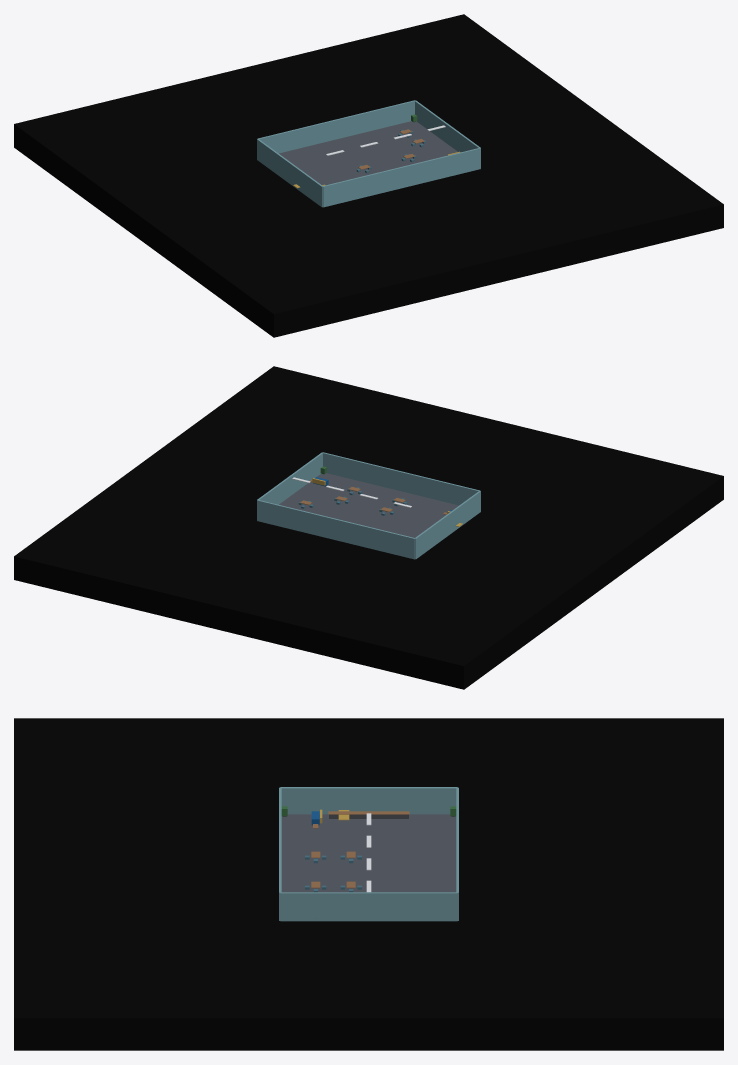
File: Social_Level.fbx
3 views of the same model, one above another, from view 1: azimuth 30°, elevation 25°; view 2: azimuth 150°, elevation 25°; view 3: azimuth 270°, elevation 25° (orthographic). The views are drawn at different scales.
Visible parts, largest first — view 1: Floor, Social_Floor, Social_Wall_N, Social_Wall_S, Social_Wall_W, Social_Wall_E; view 2: Floor, Social_Floor, Social_Wall_S, Social_Wall_N, Social_Wall_W, Social_Wall_E; view 3: Floor, Social_Floor, Social_Wall_E, Social_Wall_W.
Part boxes in pixels (x1,y1,x2,y2): Floor: [14, 14, 723, 337]; Social_Floor: [279, 121, 457, 185]; Social_Wall_N: [322, 148, 480, 207]; Social_Wall_S: [257, 100, 415, 153]; Social_Wall_W: [257, 139, 322, 207]; Social_Wall_E: [415, 100, 480, 168]; Floor: [14, 366, 723, 689]; Social_Floor: [279, 473, 458, 537]; Social_Wall_S: [257, 500, 415, 559]; Social_Wall_N: [322, 452, 480, 505]; Social_Wall_W: [415, 491, 480, 559]; Social_Wall_E: [257, 452, 322, 520]; Floor: [14, 718, 723, 1050]; Social_Floor: [281, 814, 456, 892]; Social_Wall_E: [280, 892, 457, 921]; Social_Wall_W: [280, 787, 457, 814].
Size of what is drawn, in the model's own units: 8000 by 8000 by 751.
